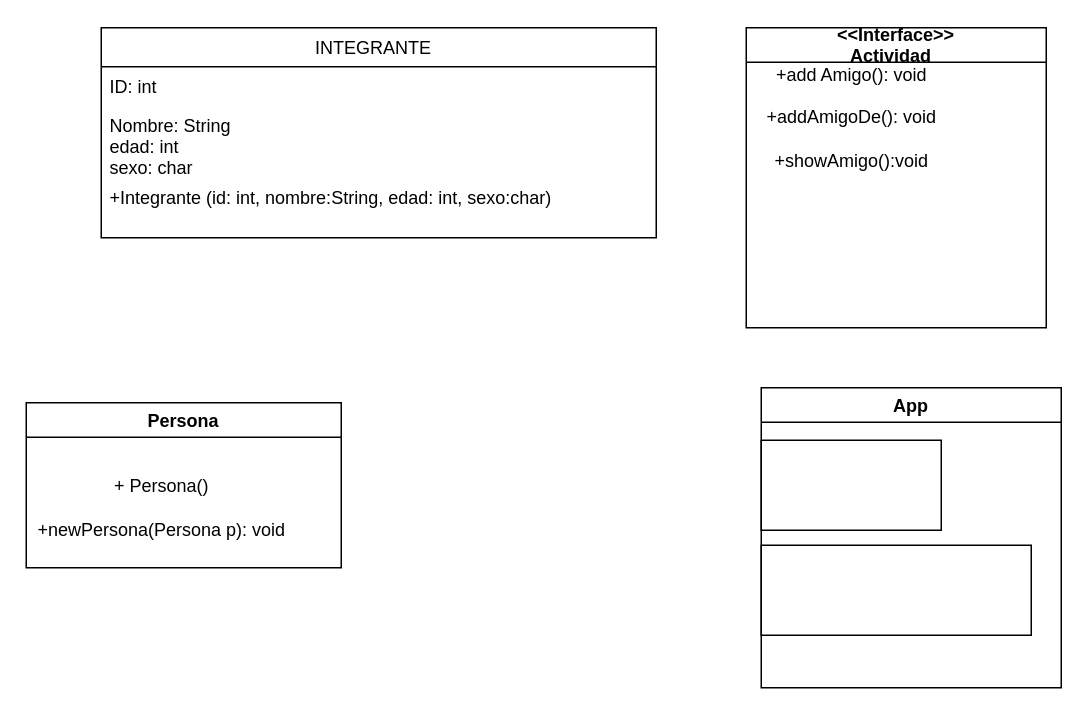
The diagram is 1088 pixels wide and 714 high, and some of its shapes have lost their labels. Here are the shapes that lost their labels. From the top down, the centre of each, then its label:
At (850,484): "+User: String +Tema:String".
At (895,589): "+ main(String[]args): void + menu(): Menu +logig(): boolean".
